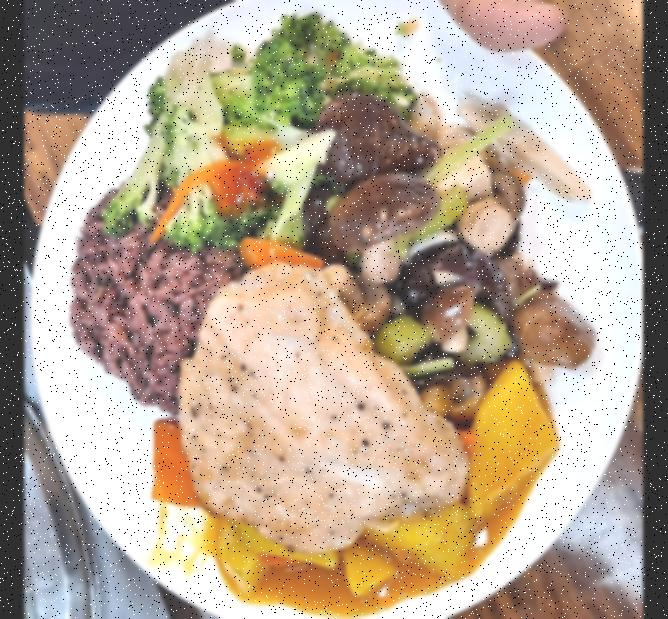big fried chicken leg: (33, 0, 643, 619)
braised fish: (64, 186, 244, 408)
braised fish fillet: (138, 363, 562, 596), (308, 95, 594, 408), (107, 12, 414, 241)
braised pork: (170, 260, 472, 548)
